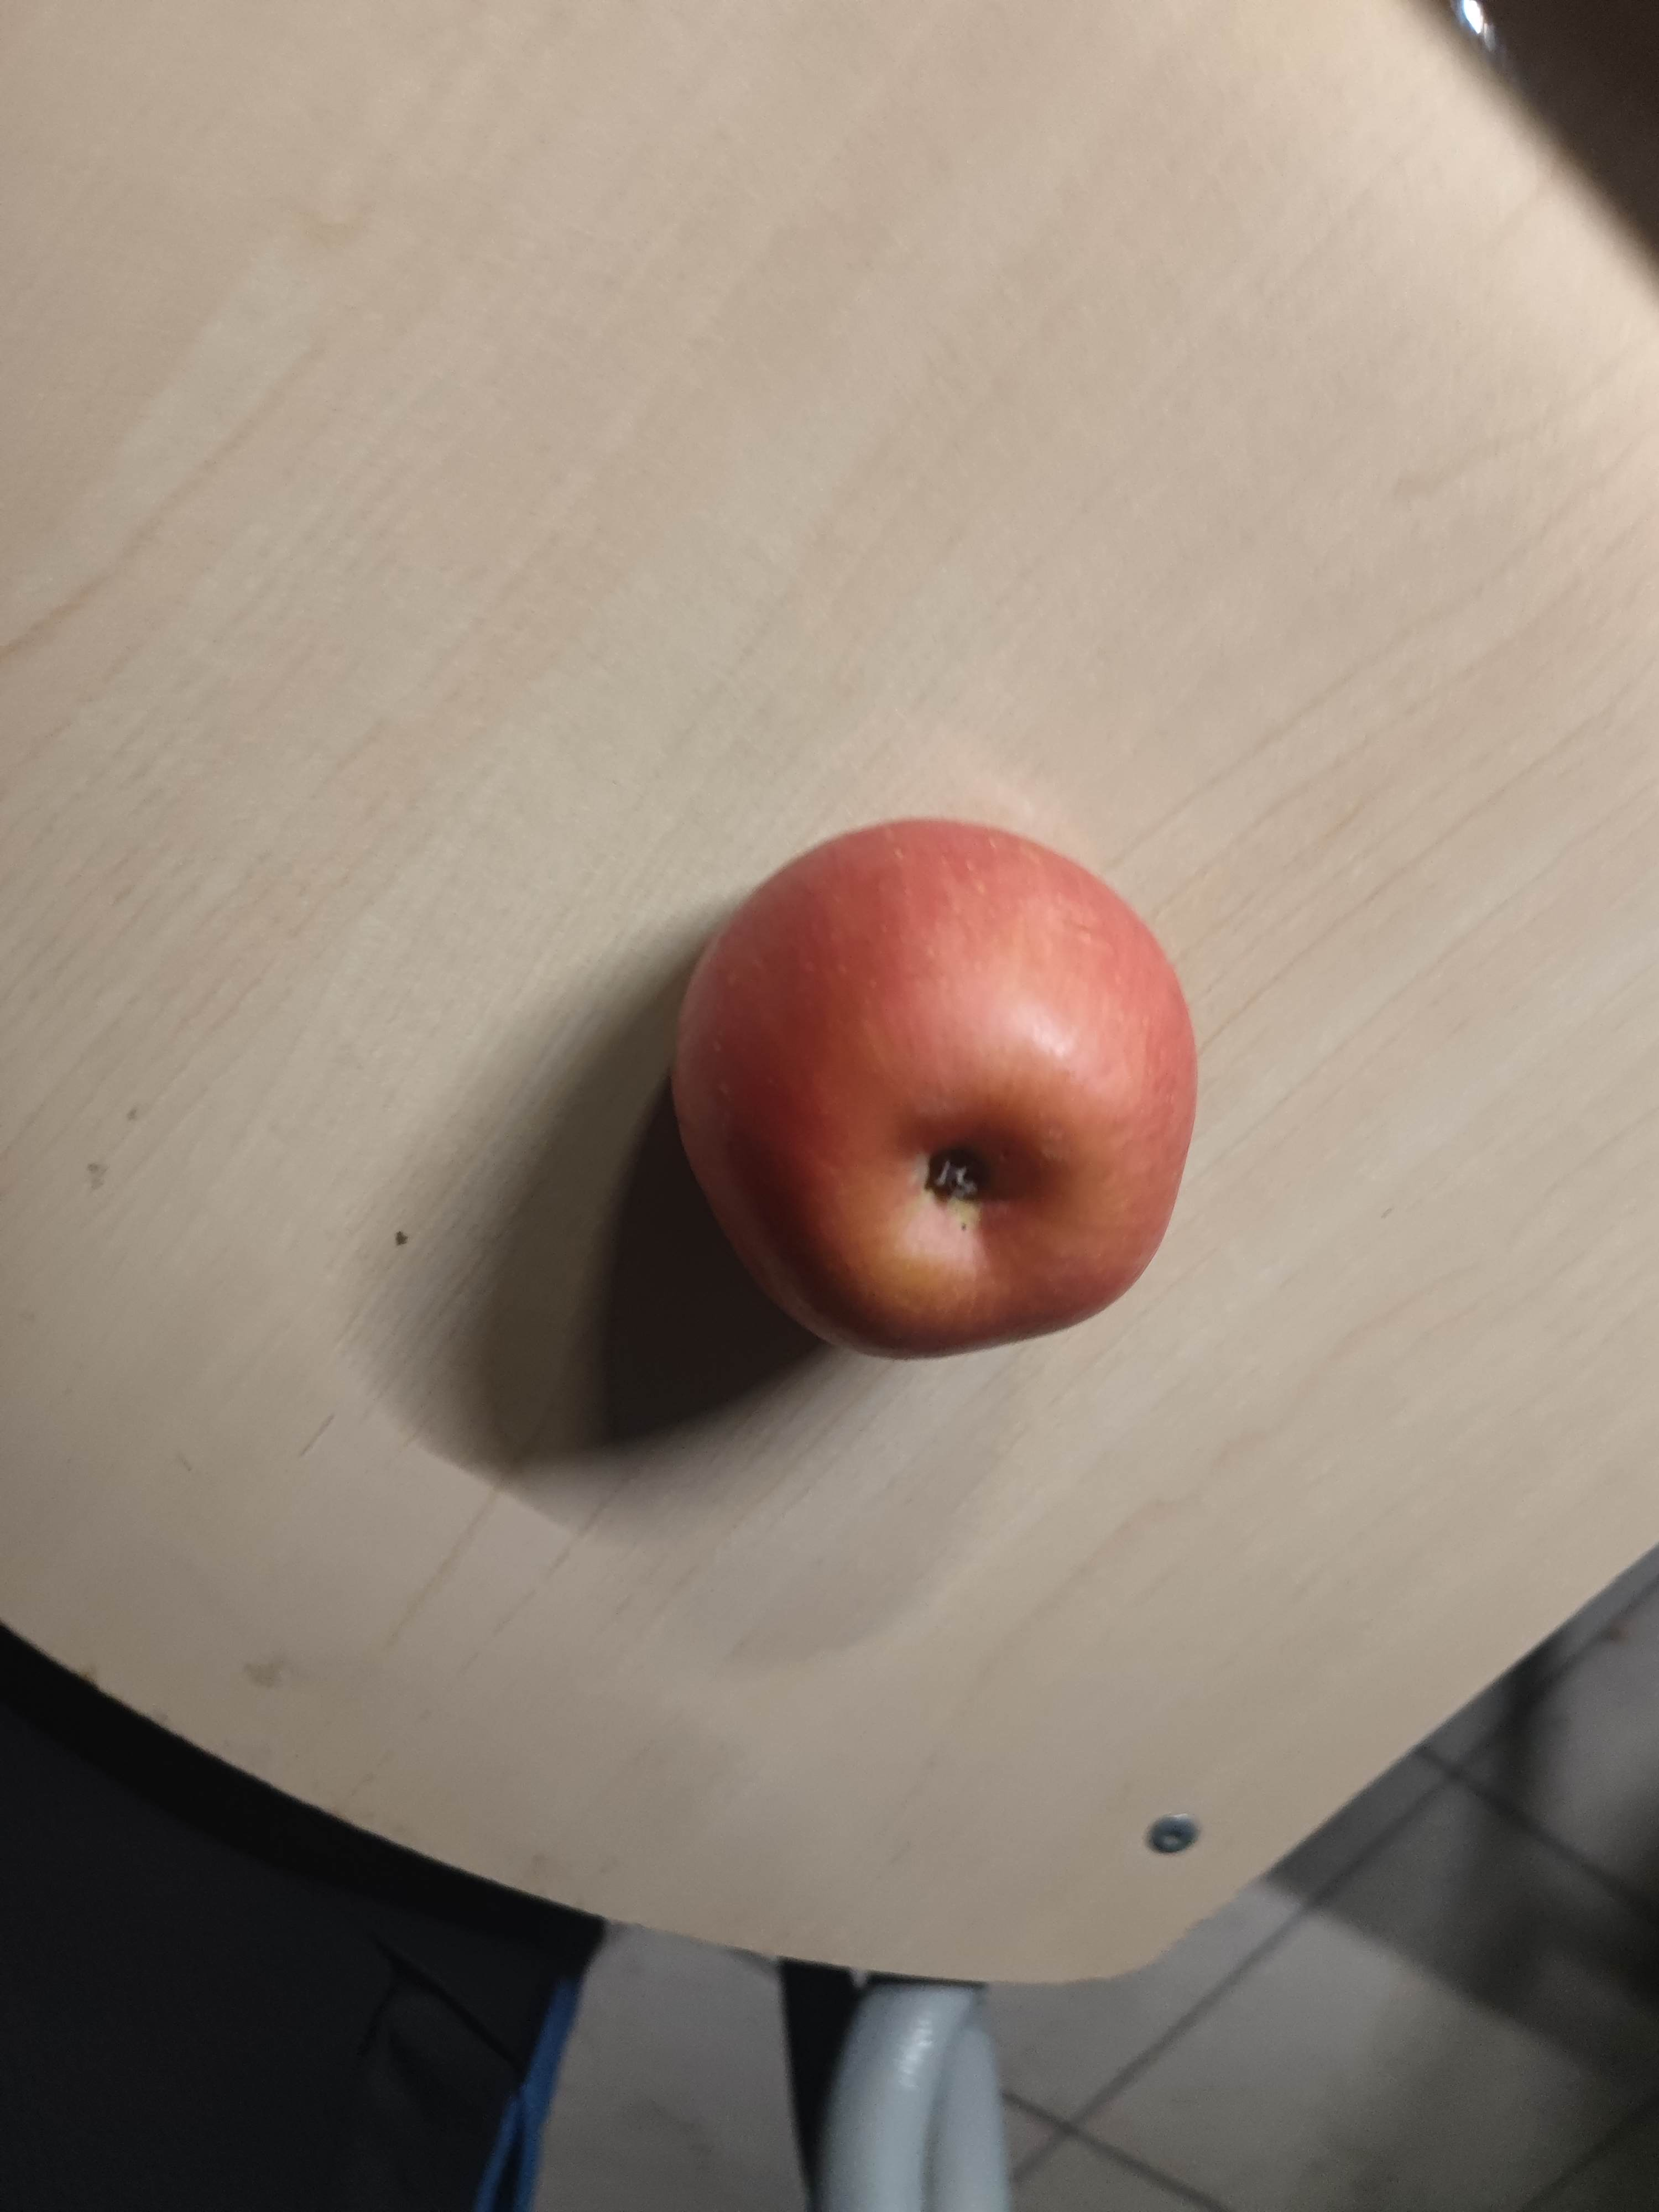apple: (669, 810, 1209, 1369)
